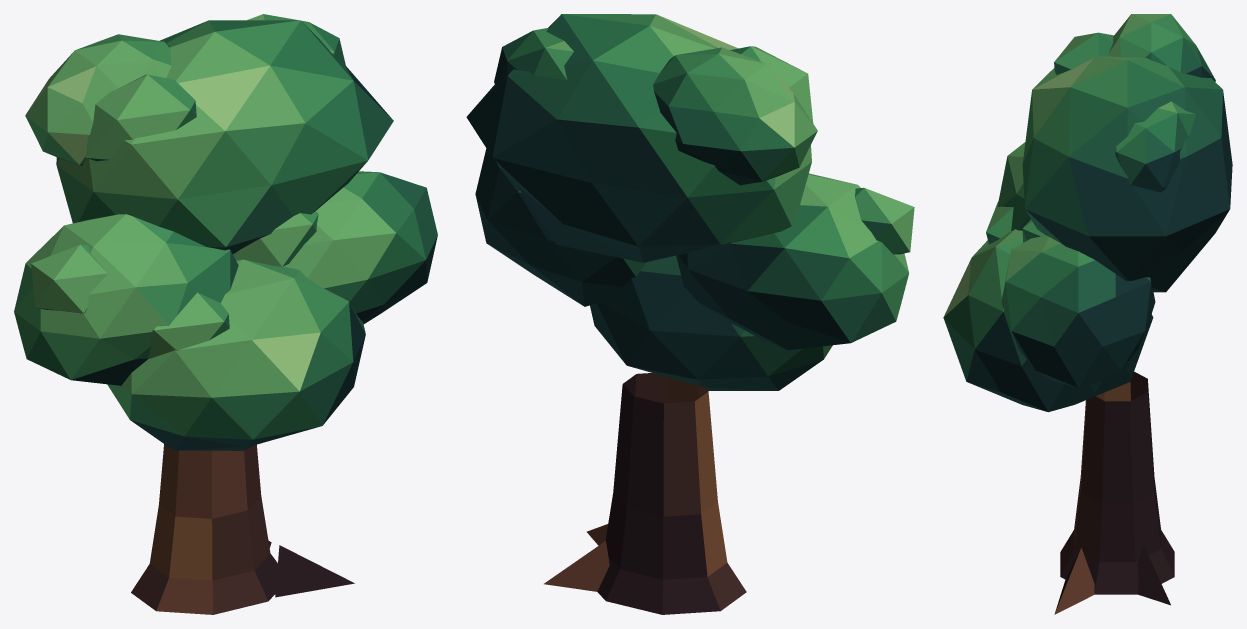
Rendered from tree_tree21.glb.
3 views of the same model, side by side, from view 1: azimuth 30°, elevation 25°; view 2: azimuth 150°, elevation 25°; view 3: azimuth 270°, elevation 25° (orthographic). The views are drawn at different scales.
Parts seen in each view (by area): view 1: tree21; view 2: tree21; view 3: tree21.
Boxes of the visible parts, x1,y1,x2,y2 form: tree21: (14,14,437,614); tree21: (466,14,914,614); tree21: (943,14,1232,614).
Size of the model in its own units: 1.08 by 1.41 by 0.7243.
